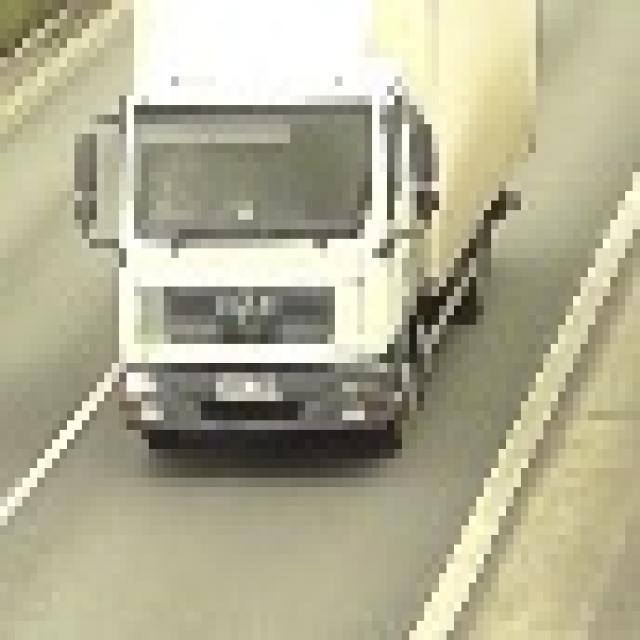truck: (67, 0, 528, 449)
